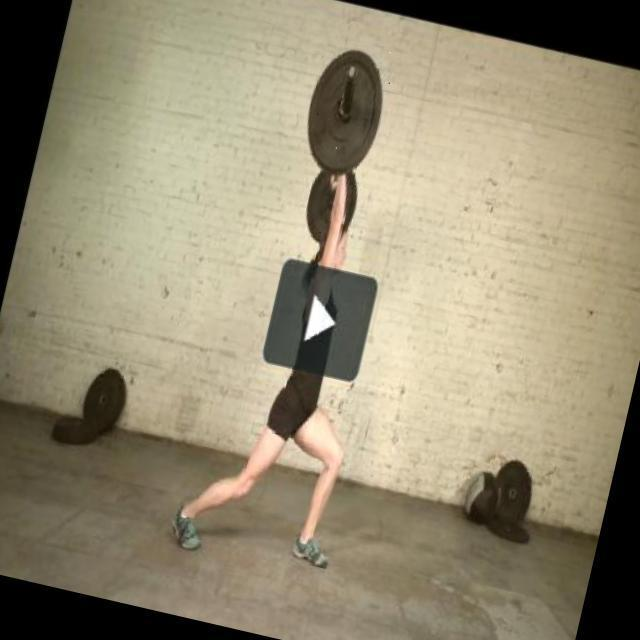barbell: (290, 32, 400, 190)
